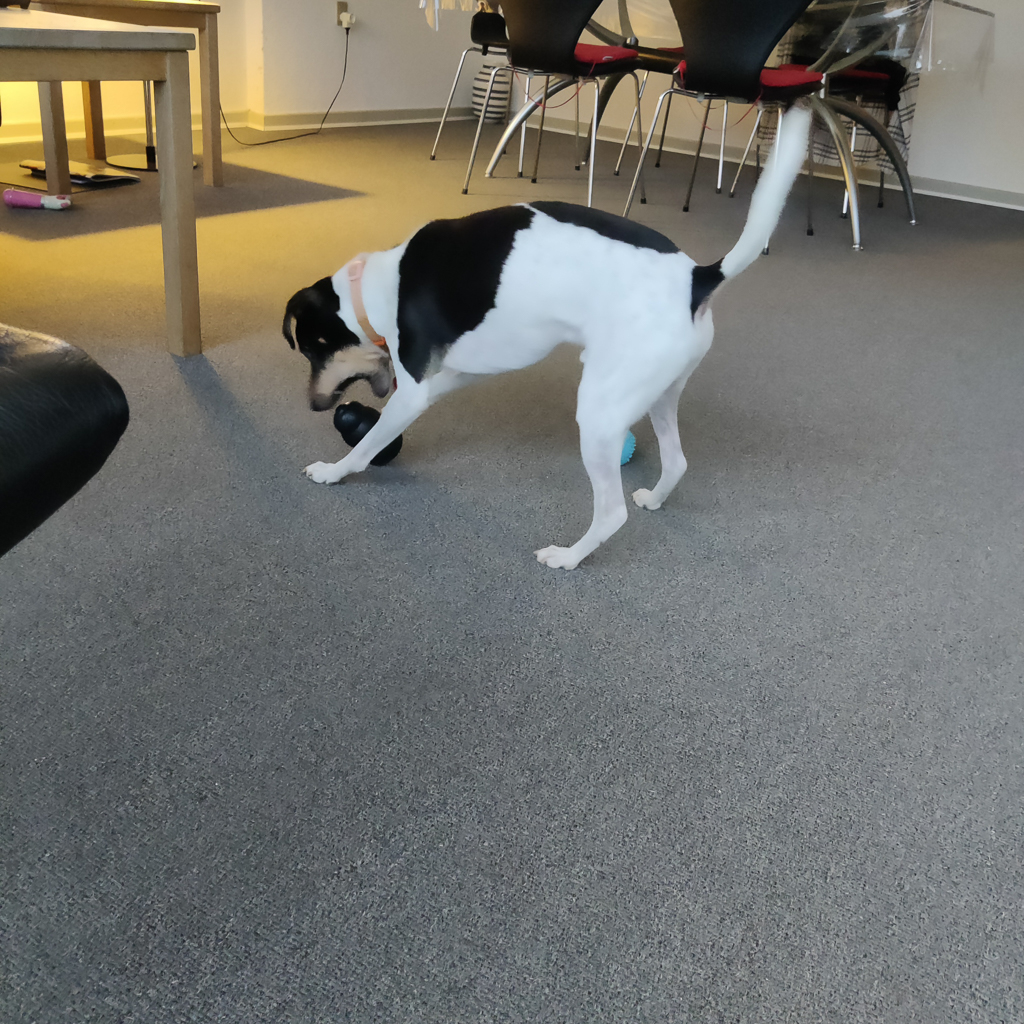Dog: (273, 92, 818, 580)
